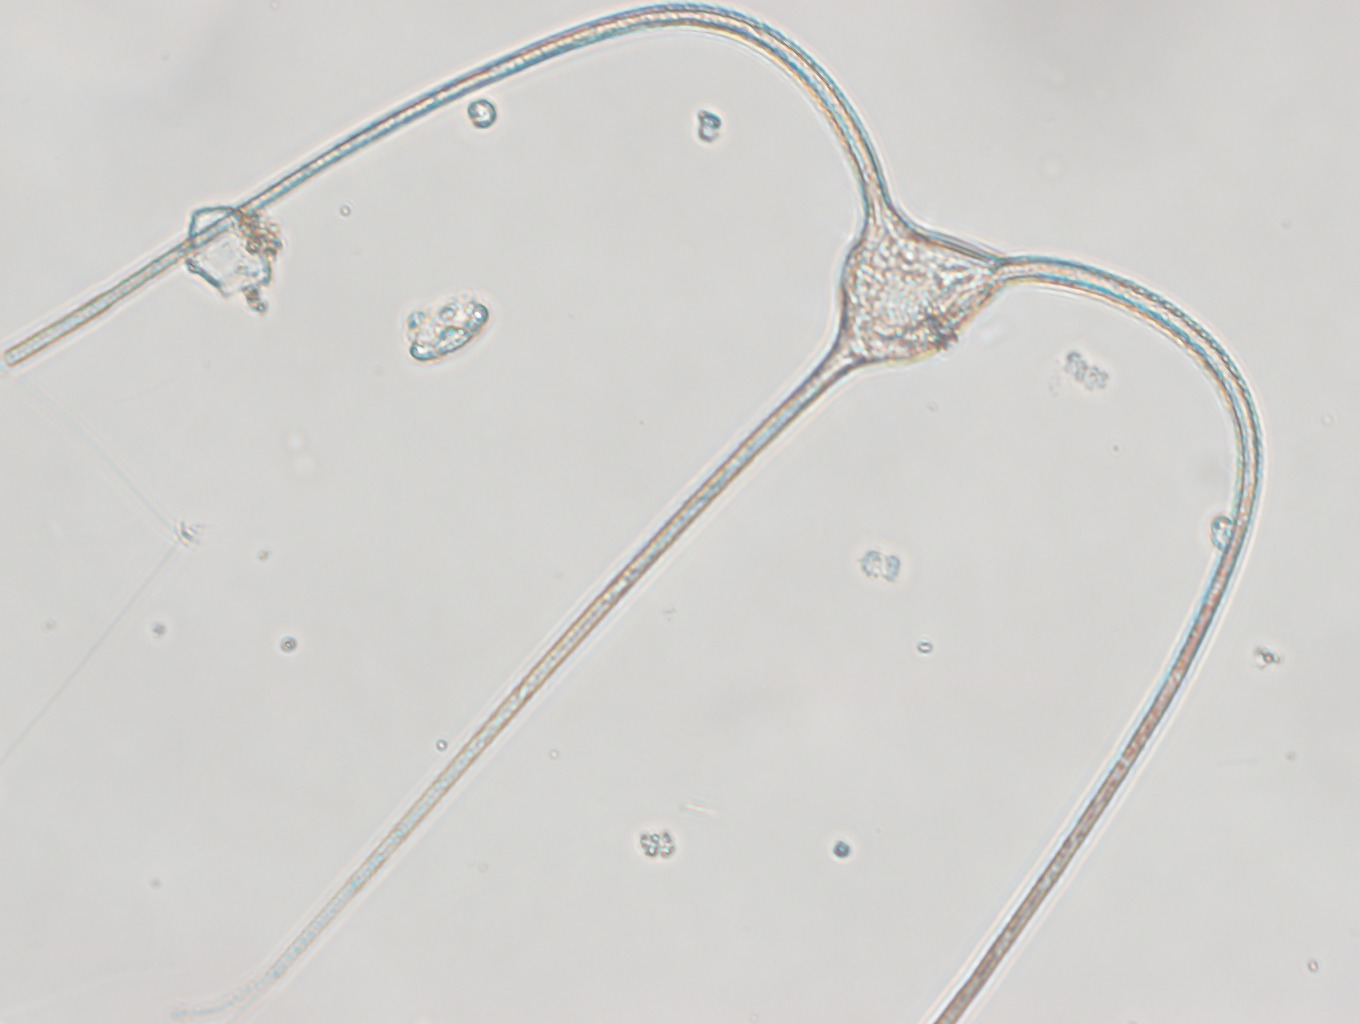ceratium trichoceros: (1, 1, 1265, 1024)
